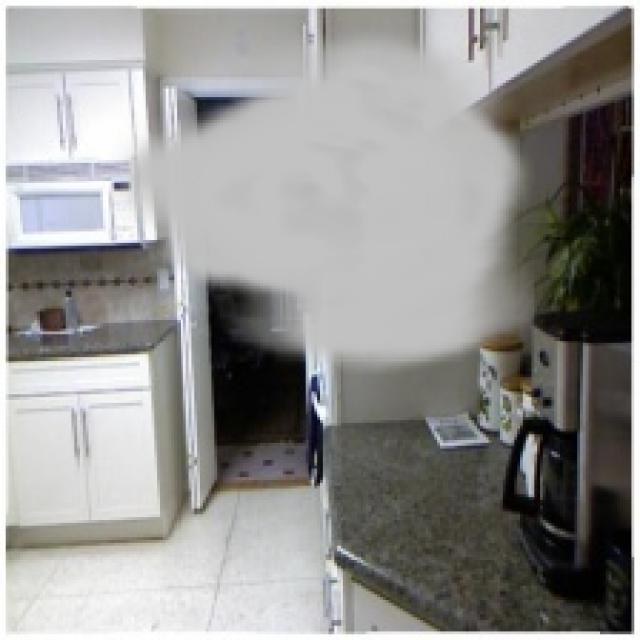smoke: (111, 23, 534, 374)
